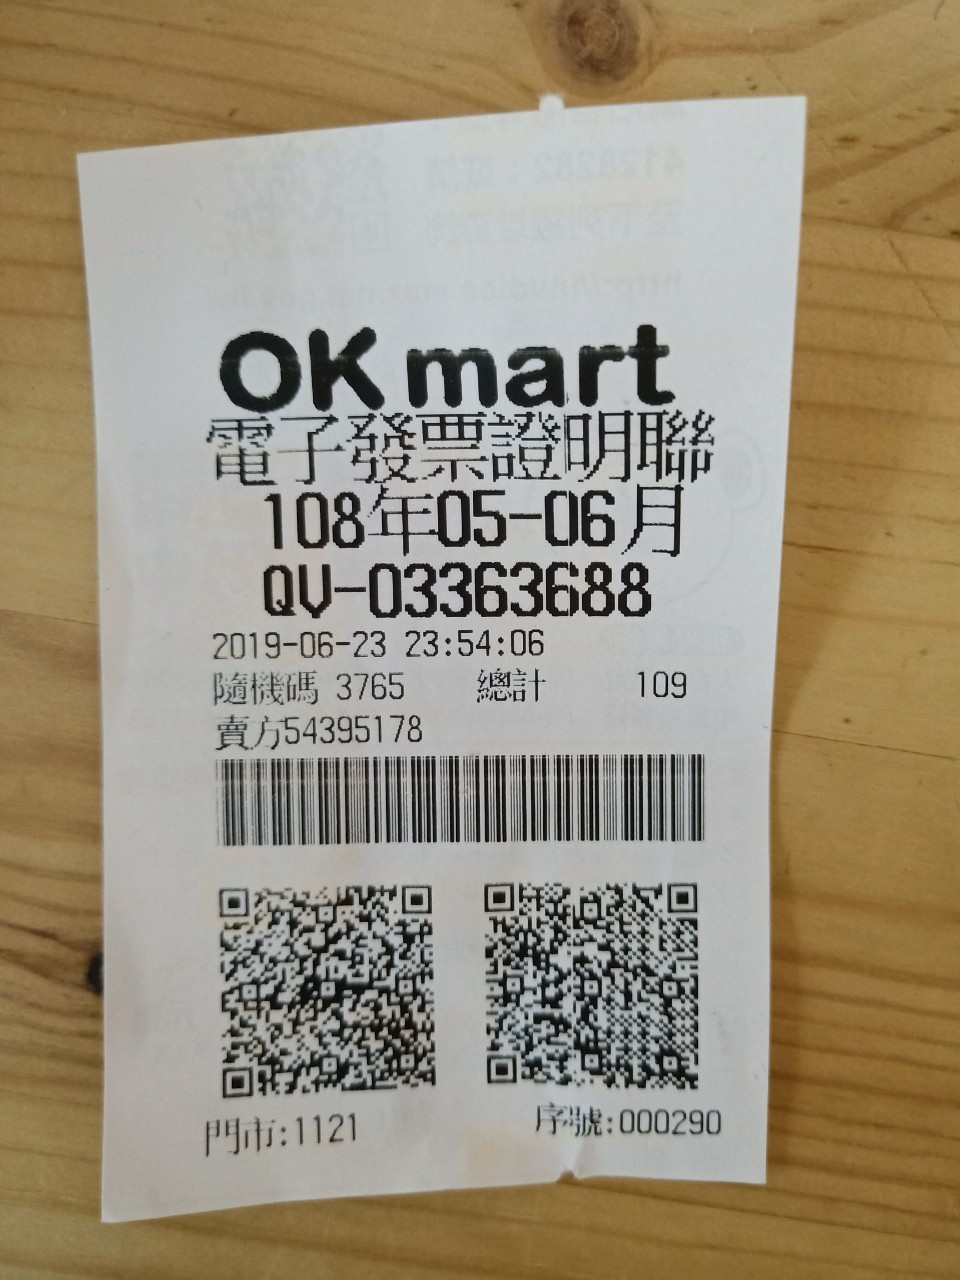Date_New: (260, 482, 687, 557)
Number_New: (365, 562, 652, 618)
